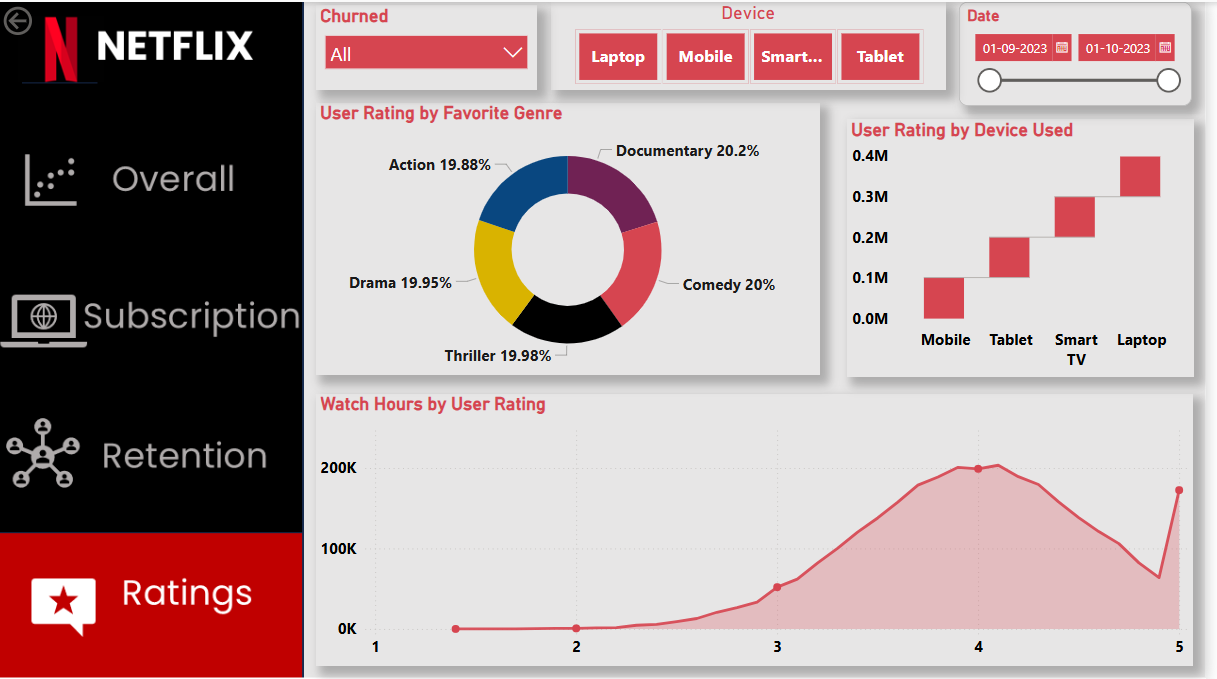

The page's visual inventory and layout, read from the dashboard file:
{"tool":"powerbi","page":{"name":"Page 4","canvas":[1280,720],"ordinal":3},"visuals":[{"type":"actionButton","box":[0,124.1,322.9,140],"z":0},{"type":"lineChart","title":"Watch Hours by User Rating","fields":{"Category":["Sheet1.User_Rating"],"Y":["Sum(Sheet1.Watch_Hours)"]},"box":[335.6,415.1,930.5,289.5],"z":1000},{"type":"donutChart","title":"User Rating by Favorite Genre","fields":{"Y":["Sum(Sheet1.User_Rating)"],"Category":["Sheet1.Favorite_Genre"]},"box":[335.6,106.6,534.4,289.5],"z":2000},{"type":"slicer","title":"Device","fields":{"Values":["Sheet1.Device_Used"]},"box":[585,0,418.3,93.3],"z":3000},{"type":"waterfallChart","title":"User Rating by Device Used","fields":{"Category":["Sheet1.Device_Used"],"Y":["Sum(Sheet1.User_Rating)"]},"box":[898.3,123.3,368.3,273.3],"z":4000},{"type":"slicer","title":"Churned","fields":{"Values":["Sheet1.Churned"]},"box":[335,3.3,235,90],"z":5000},{"type":"slicer","title":"Date","fields":{"Values":["Sheet1.Date"]},"box":[1018.3,0,246.7,110],"z":5001},{"type":"actionButton","box":[0,0,100,40],"z":5002}]}

Visuals, with their boxes on the page's 1280x720 design canvas (x1, y1, x2, y2). These are canvas units, not pixel positions in the 1217x679 screenshot, which may show the page scaled, cropped or inside an application window:
actionButton: detection(0, 124, 323, 264)
"Watch Hours by User Rating" lineChart: detection(336, 415, 1266, 705)
"User Rating by Favorite Genre" donutChart: detection(336, 107, 870, 396)
"Device" slicer: detection(585, 0, 1003, 93)
"User Rating by Device Used" waterfallChart: detection(898, 123, 1267, 397)
"Churned" slicer: detection(335, 3, 570, 93)
"Date" slicer: detection(1018, 0, 1265, 110)
actionButton: detection(0, 0, 100, 40)
